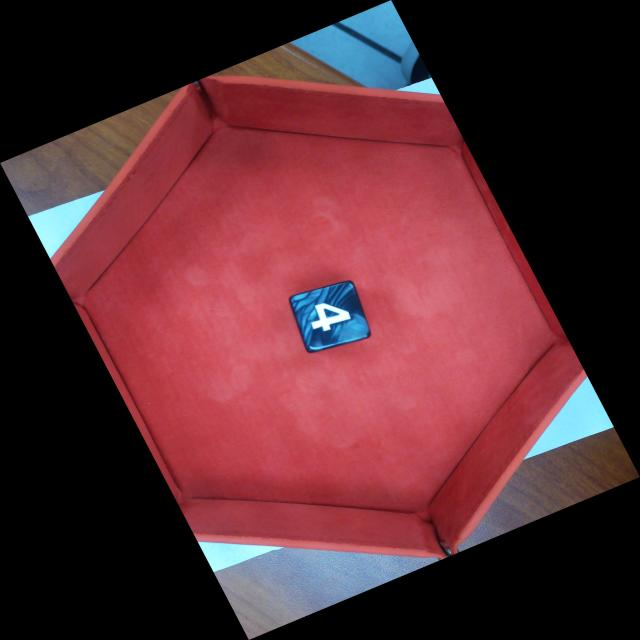dice: (289, 281, 371, 353)
